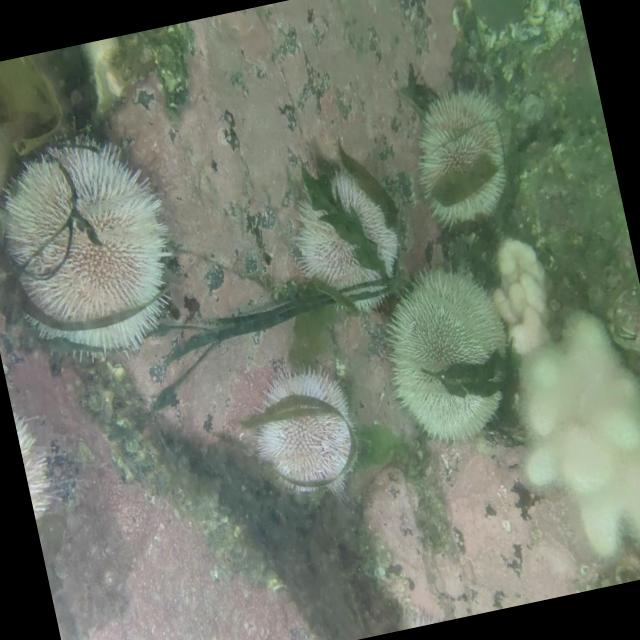Deniz Kestanesi: (0, 101, 192, 380), (366, 254, 530, 456), (277, 152, 413, 324), (401, 78, 530, 236), (239, 354, 368, 509)
